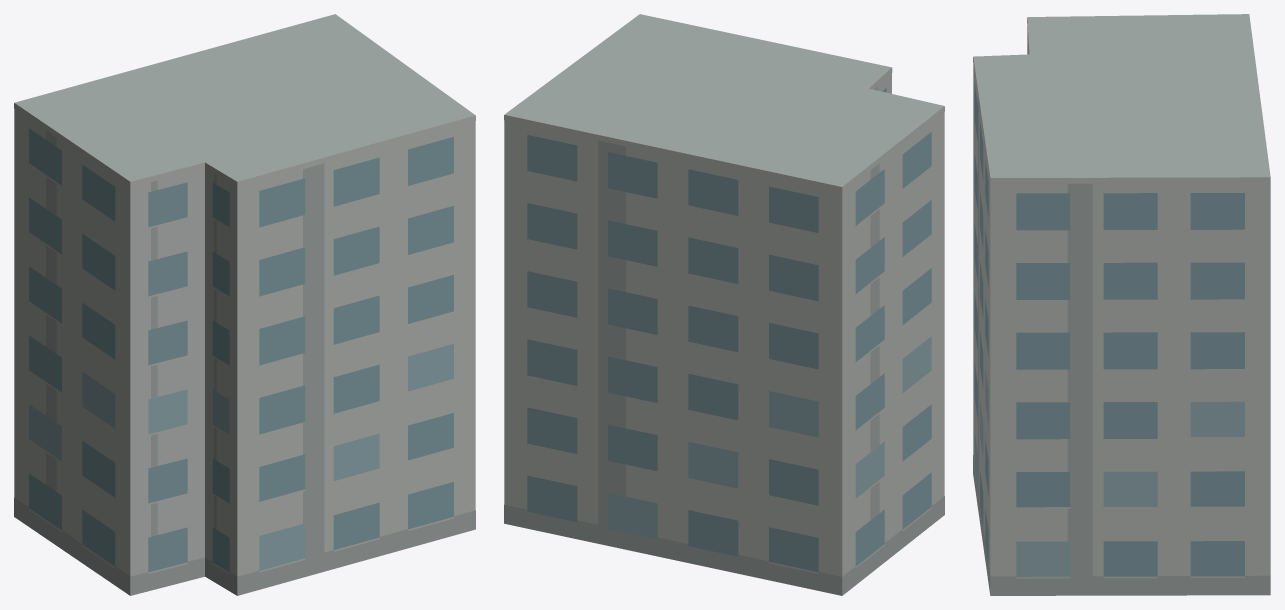
File: survey-upis-32870783.glb
3 views of the same model, side by side, from view 1: azimuth 30°, elevation 25°; view 2: azimuth 150°, elevation 25°; view 3: azimuth 270°, elevation 25° (orthographic). The views are drawn at different scales.
Parts seen in each view (by area): view 1: survey-upis-32870783.tmp; view 2: survey-upis-32870783.tmp; view 3: survey-upis-32870783.tmp.
Boxes of the visible parts, x1,y1,x2,y2 form: survey-upis-32870783.tmp: (14,14,475,595); survey-upis-32870783.tmp: (504,14,944,595); survey-upis-32870783.tmp: (973,14,1270,595).
Size of the model in its own units: 14.74 by 17.49 by 11.3.
